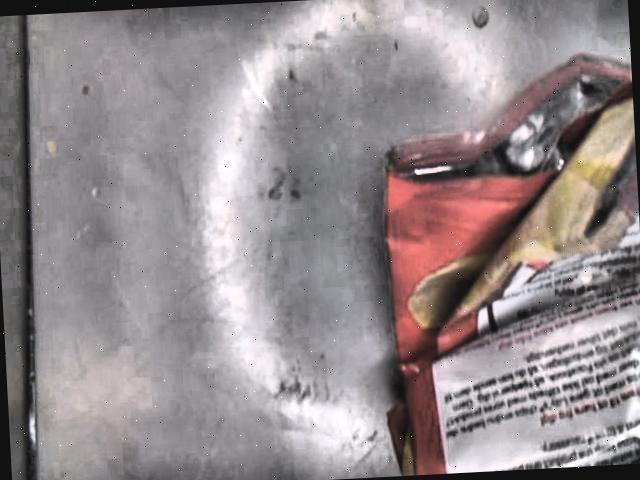Plastic: (384, 53, 640, 476)
